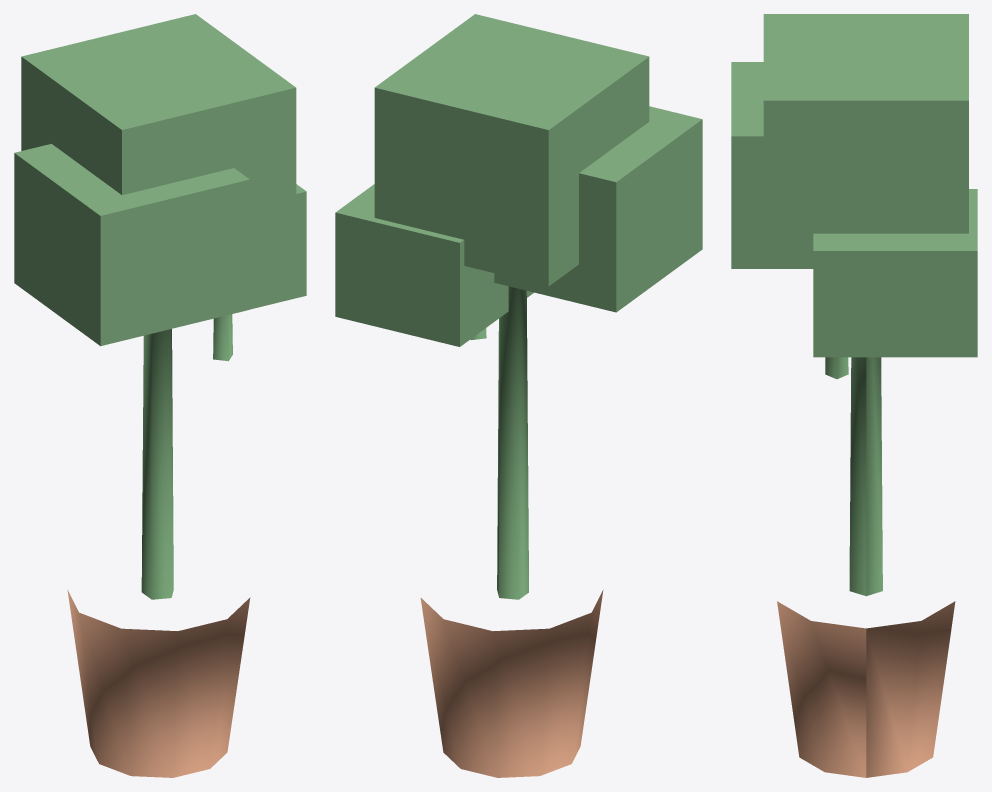
File: plant_large.glb
3 views of the same model, side by side, from view 1: azimuth 30°, elevation 25°; view 2: azimuth 150°, elevation 25°; view 3: azimuth 270°, elevation 25° (orthographic).
Parts seen in each view (by area): view 1: leaves, pot, trunk, branch1; view 2: leaves, pot, trunk; view 3: leaves, pot, trunk, branch1.
Boxes of the visible parts, left/top/right/bottom form: leaves: left=14, top=14, right=306, bottom=346; pot: left=67, top=589, right=250, bottom=777; trunk: left=141, top=329, right=173, bottom=599; branch1: left=213, top=314, right=232, bottom=361; leaves: left=335, top=14, right=702, bottom=346; pot: left=420, top=590, right=603, bottom=777; trunk: left=497, top=286, right=528, bottom=599; leaves: left=731, top=14, right=977, bottom=357; pot: left=777, top=601, right=955, bottom=777; trunk: left=849, top=357, right=882, bottom=596; branch1: left=825, top=357, right=848, bottom=379.
Size of the model in its own units: 0.495 by 1.3 by 0.42.
